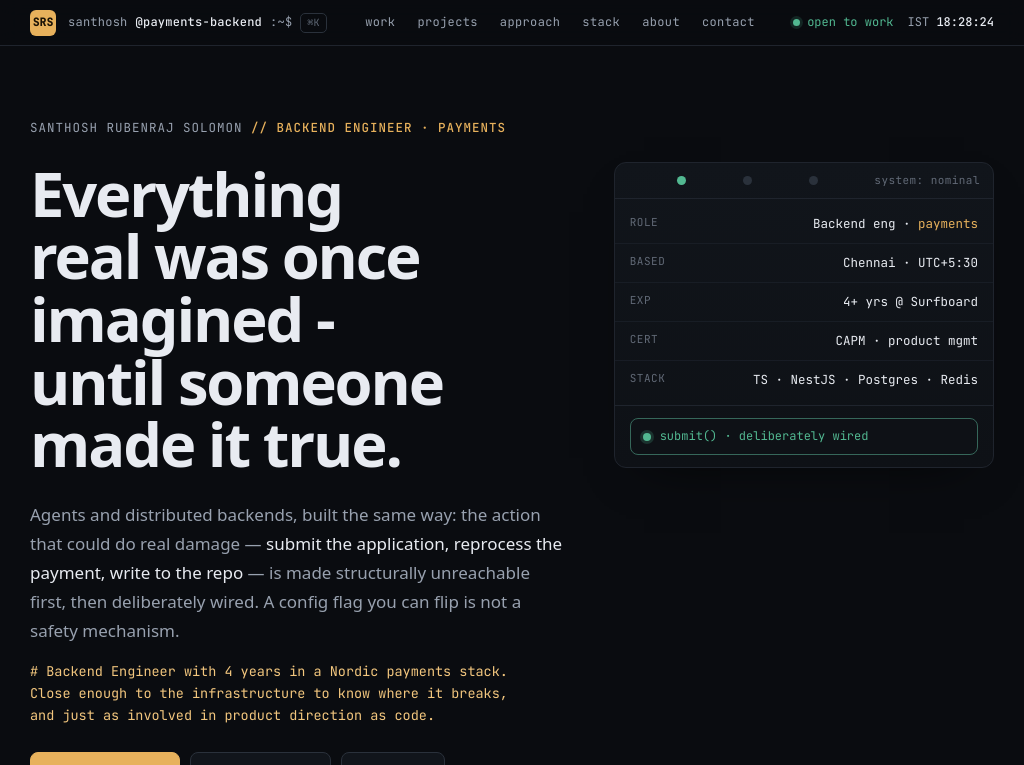
Test: commands › Enter runs the highlighted prefix match
Click the button titled "Command palette (⌘K)".
click(197, 22)  # box [68,12,327,32]
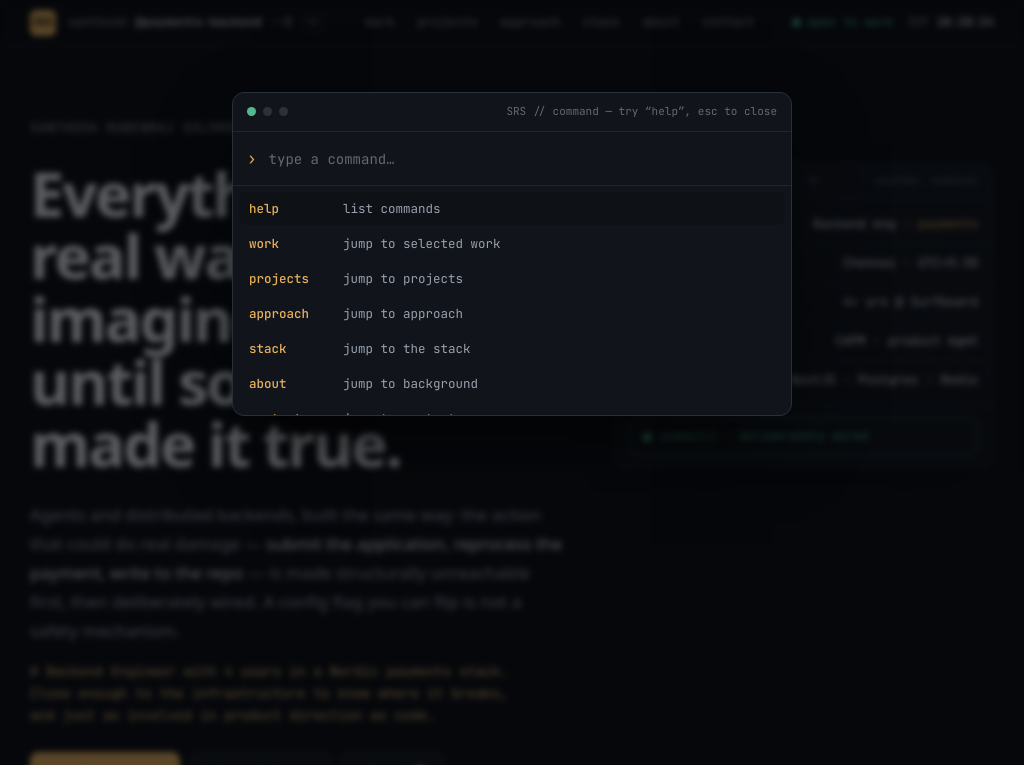
Type "who" into the field labelled "command".
click(522, 158); type("who")  # box [267,148,777,168]
Then press Enter
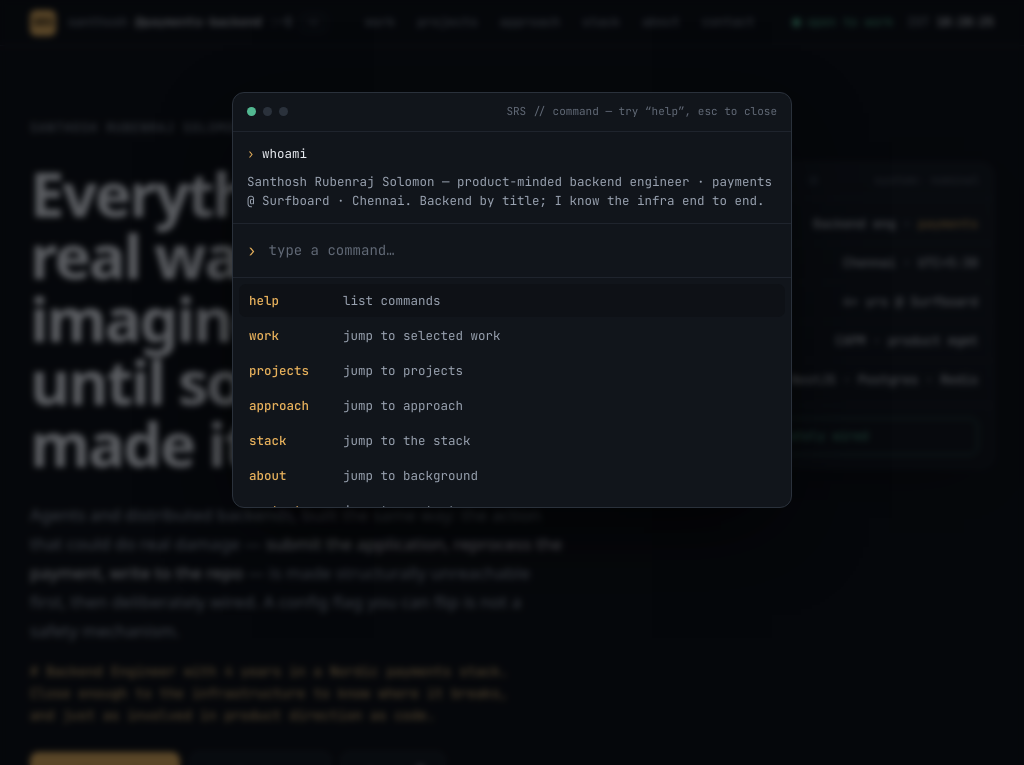
Now the element that starts with "whoami" shows "Santhosh Rubenraj Solomon — product-minded backend engineer", box [247,173,772,209]
